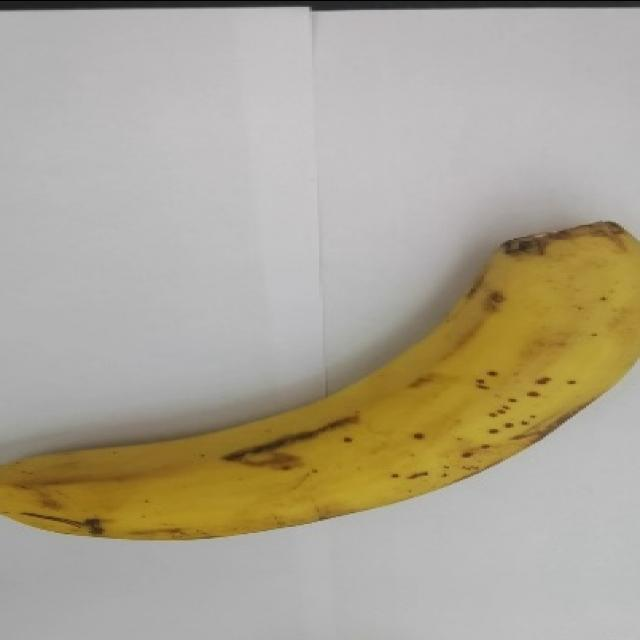Banana: (0, 218, 639, 541)
